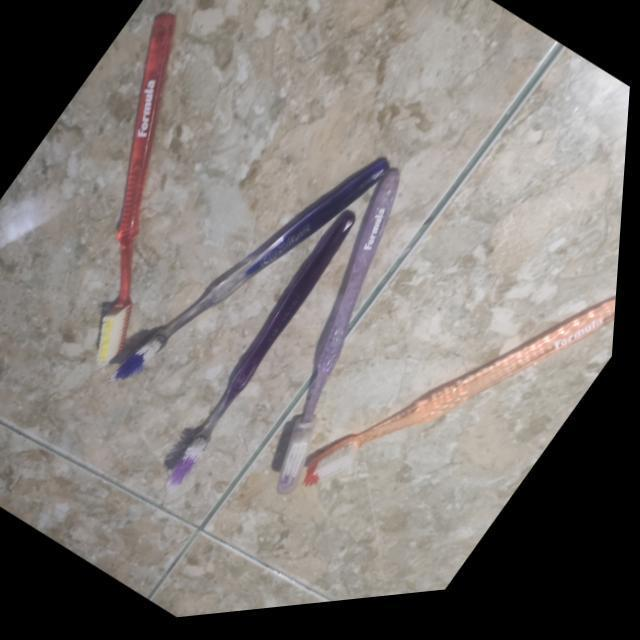toothbrush: (304, 298, 622, 519), (116, 157, 400, 402), (155, 210, 361, 496), (276, 154, 409, 511), (87, 5, 185, 389)
